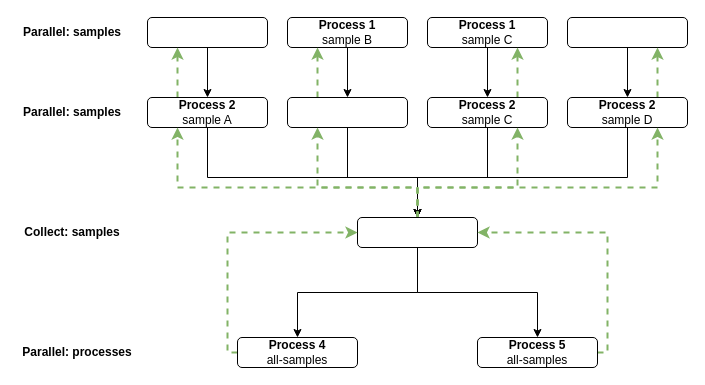
This 705x385 diagram has some shape labels left out. Here are the shapes that lost their labels. From the top down, the centre of each, then its label:
At pixel 207 32: "Process 1 sample A".
At pixel 627 32: "Process 1 sample D".
At pixel 347 112: "Process 2 sample B".
At pixel 417 232: "Process 3 all-samples".
